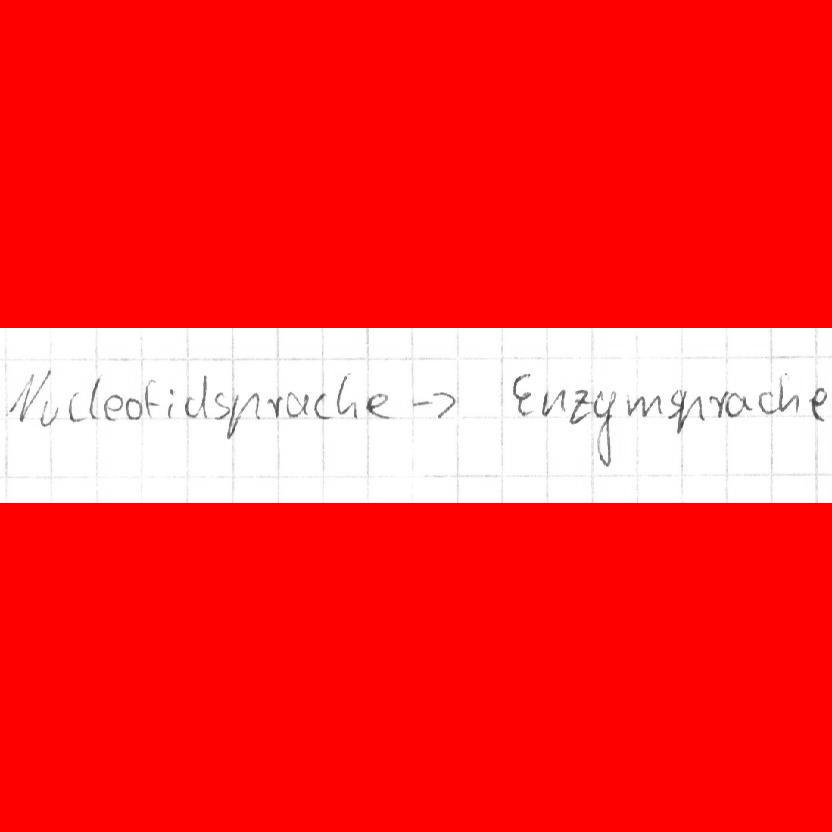Char: (4, 366, 44, 426), (222, 388, 259, 439), (593, 390, 615, 469), (410, 389, 455, 421), (183, 372, 208, 419), (677, 391, 703, 434), (512, 370, 535, 418), (334, 371, 357, 418), (624, 391, 661, 419), (777, 371, 799, 415), (667, 385, 687, 432), (541, 386, 566, 419), (569, 387, 590, 425), (143, 377, 161, 418), (86, 374, 102, 420), (725, 391, 751, 419), (366, 390, 392, 417), (286, 391, 309, 419), (811, 387, 829, 421), (67, 391, 85, 423), (213, 390, 230, 421), (39, 398, 57, 427), (103, 393, 122, 420), (314, 392, 332, 420), (124, 395, 143, 421), (709, 390, 725, 419), (266, 392, 283, 419), (757, 391, 775, 414), (167, 386, 177, 419)
